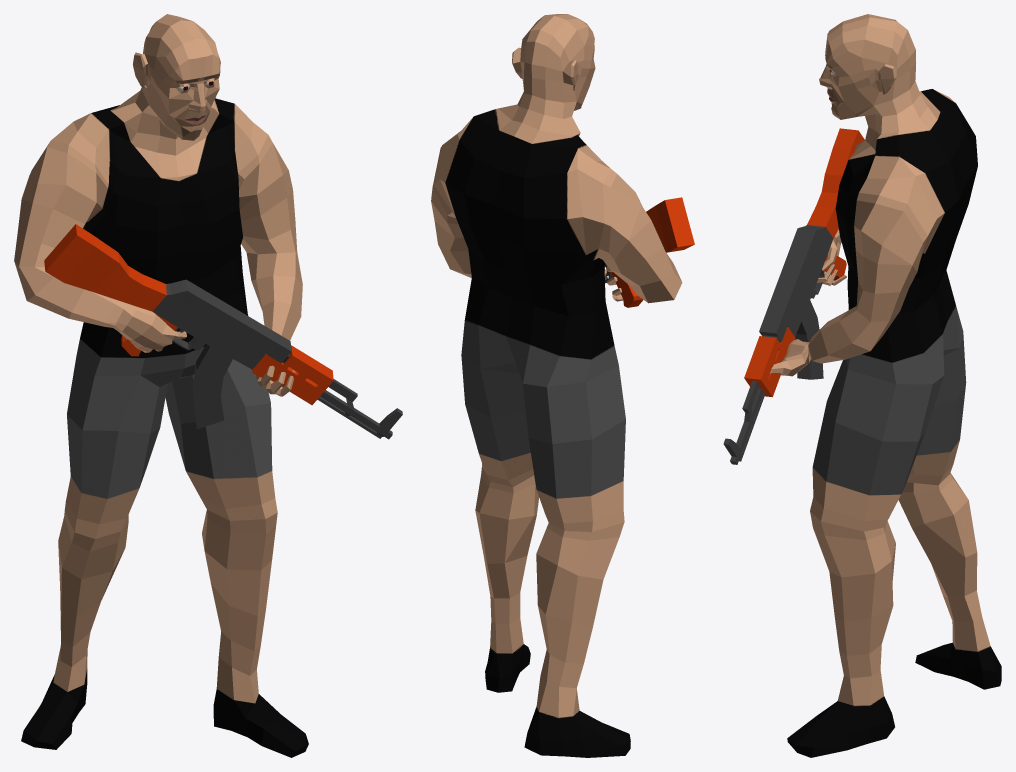
Rendered from PlayerIdle(98).obj.
3 views of the same model, side by side, from view 1: azimuth 30°, elevation 25°; view 2: azimuth 150°, elevation 25°; view 3: azimuth 270°, elevation 25° (orthographic). The views are drawn at different scales.
Visible parts, largest first — view 1: Plane002, Object001; view 2: Plane002, Object001; view 3: Plane002, Object001.
Boxes of the visible parts, x1,y1,x2,y2 form: Plane002: [14, 14, 308, 757]; Object001: [44, 224, 402, 439]; Plane002: [431, 14, 682, 757]; Object001: [604, 197, 694, 307]; Plane002: [770, 14, 1001, 757]; Object001: [723, 128, 864, 464].
Size of the model in its own units: 762 by 1804 by 654.
